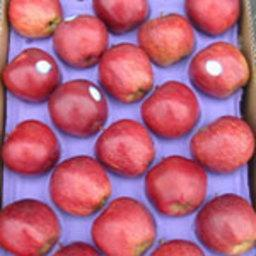apple: (145, 155, 207, 218), (49, 155, 111, 217), (90, 196, 156, 254), (188, 40, 250, 100), (191, 114, 254, 173), (196, 192, 256, 253), (93, 119, 156, 177), (47, 79, 107, 138), (1, 197, 61, 254), (140, 81, 200, 138), (1, 117, 61, 174), (98, 42, 154, 103), (136, 13, 197, 68), (2, 47, 61, 102), (52, 15, 107, 67), (7, 1, 61, 38), (93, 1, 151, 35), (185, 1, 240, 35)
